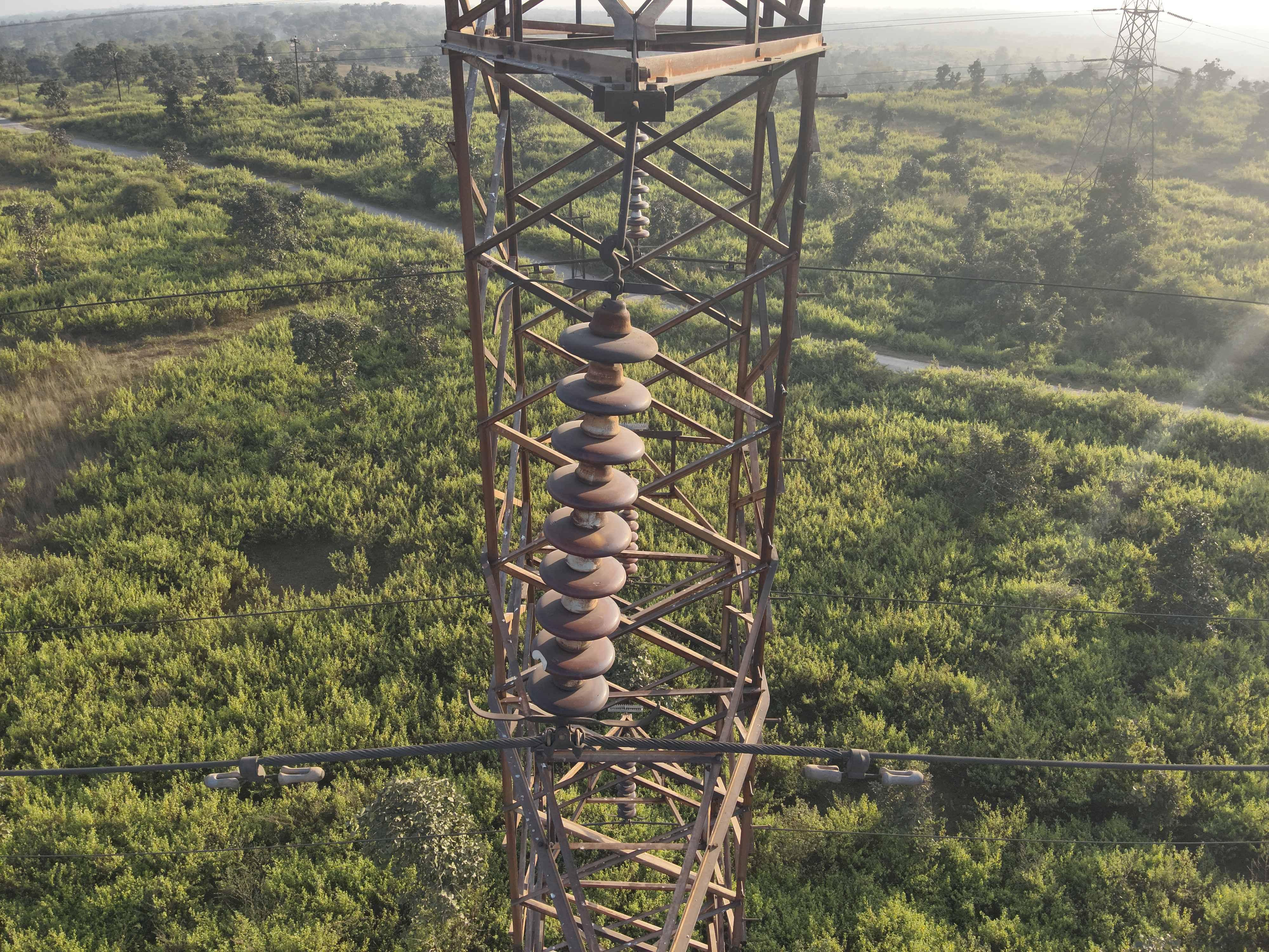broken_insulator: (525, 632, 630, 681)
